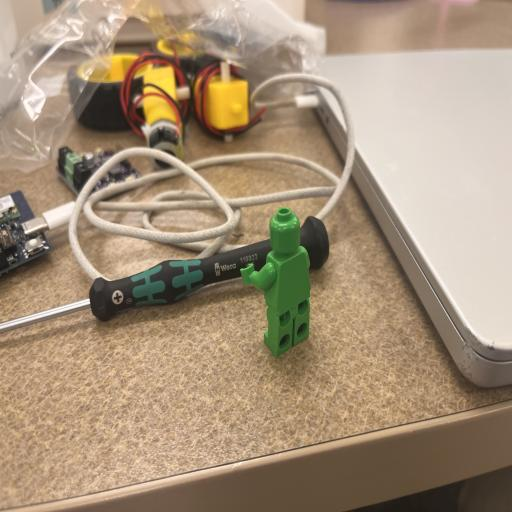Lego-Minifig: (241, 207, 311, 357)
